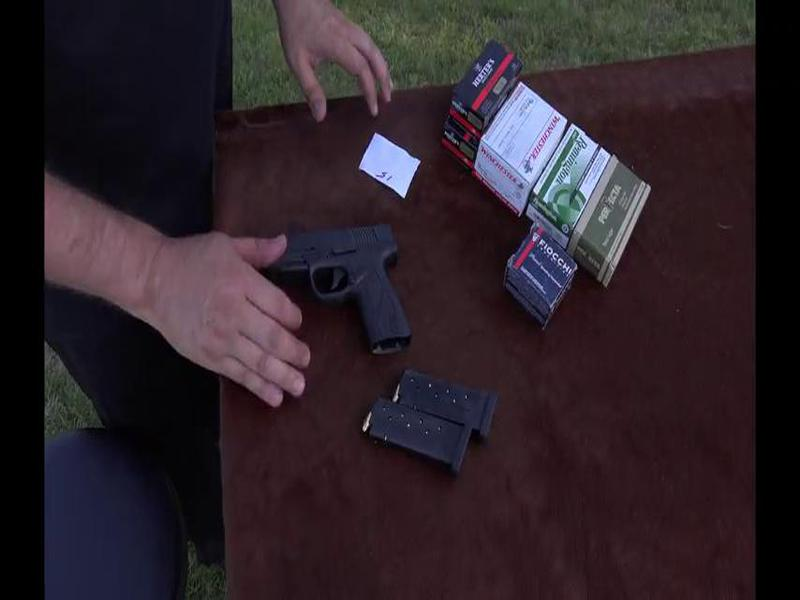Pistola: (257, 228, 424, 360)
